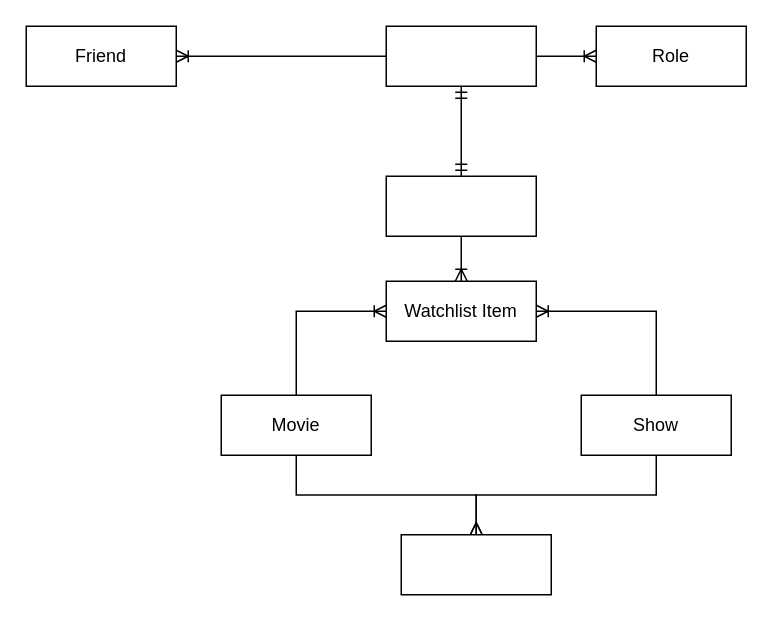
The diagram is 773 pixels wide and 621 high, and some of its shapes have lost their labels. Here are the shapes that lost their labels. From the top down, the centre of each, then its label:
pixel 460 55: User
pixel 460 205: Watchlist
pixel 475 564: Review
